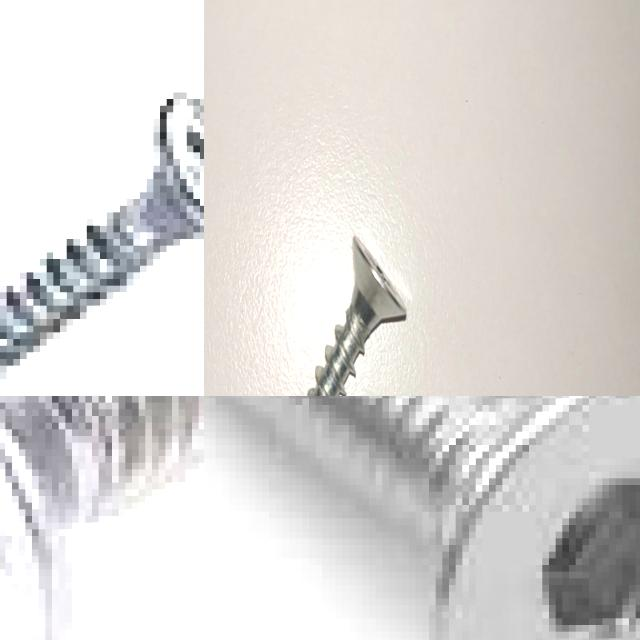Screw: (250, 396, 640, 640), (0, 92, 204, 378), (0, 396, 204, 640), (307, 235, 406, 396)
